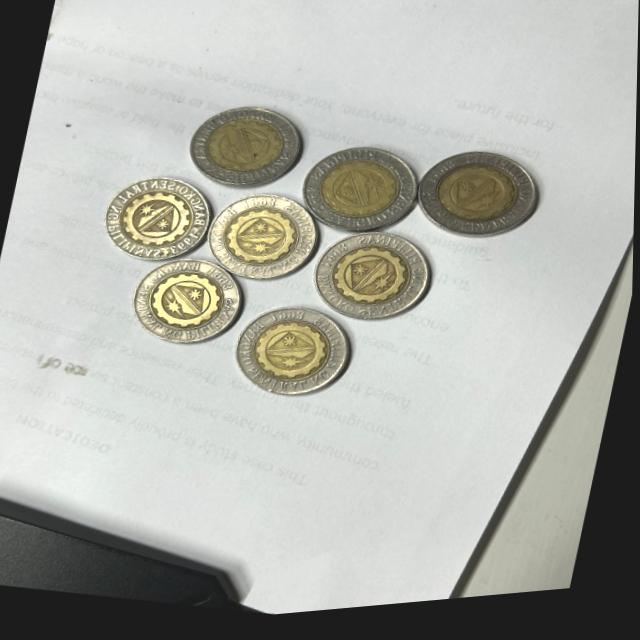10_Old_Back: (314, 226, 437, 337), (415, 150, 537, 258), (188, 102, 314, 199), (239, 305, 358, 407), (134, 256, 246, 355), (213, 193, 320, 286), (311, 153, 418, 246), (105, 178, 213, 267)
